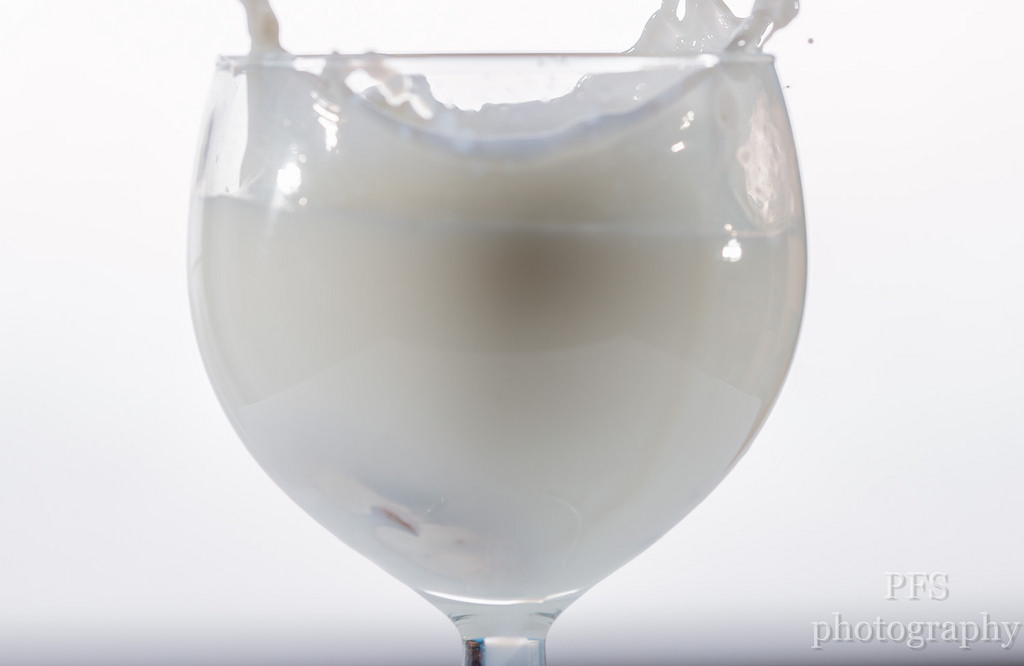glass of milk: (175, 24, 836, 666)
